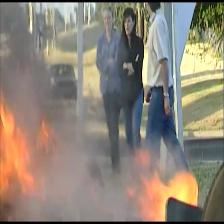fire: (0, 54, 97, 212), (118, 144, 212, 222)
